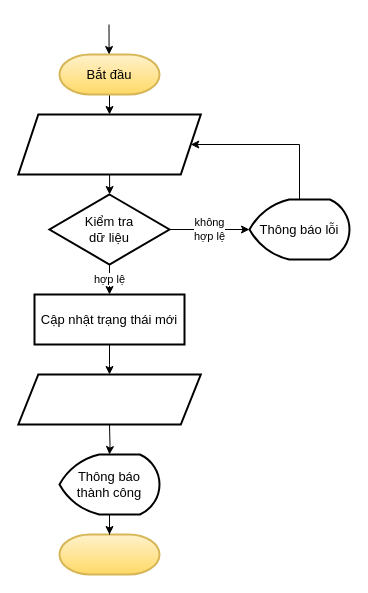
Some shapes in this 368 by 593 pixel diagram are drawn without their labels. The centre of each missing label's shape, as x and y in pixels:
id đơn hàng, trạng thái mới: point (109, 144)
Kết thúc: point (109, 554)
Nhập thông tin tài khoản: point (109, 399)
